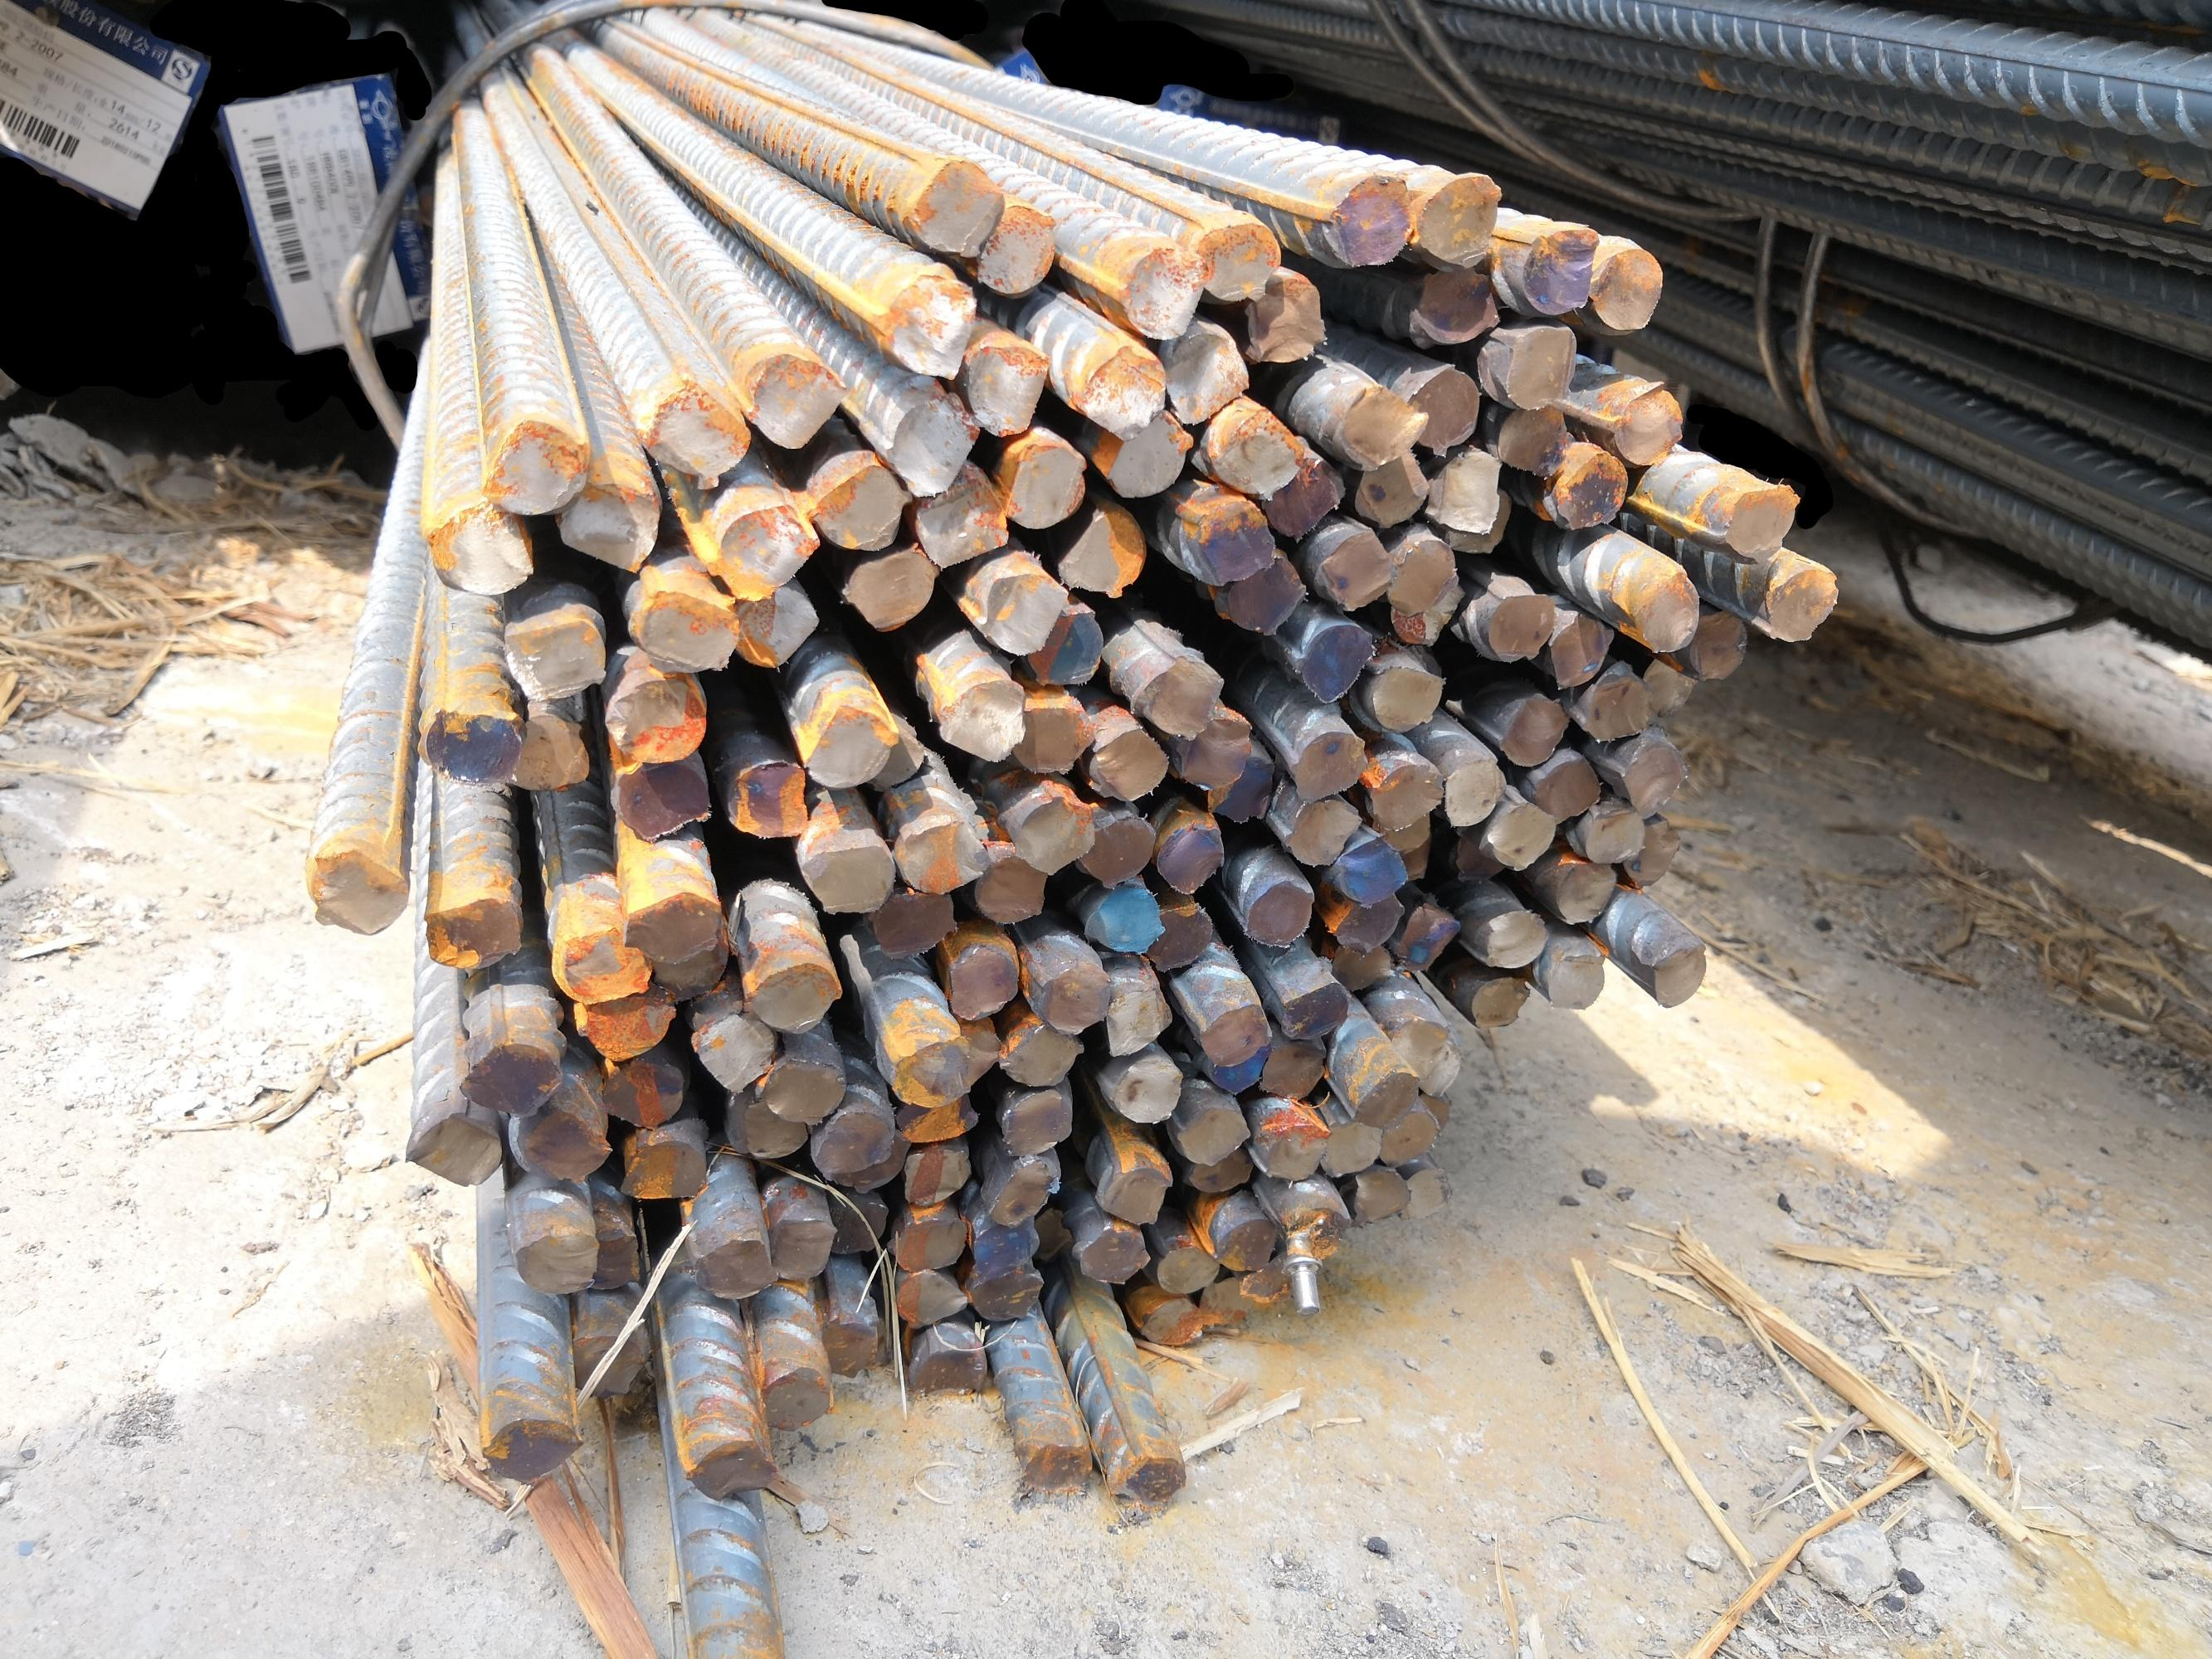bar: (629, 376, 751, 491), (472, 415, 593, 521), (699, 502, 821, 605), (873, 389, 983, 497), (910, 457, 1013, 570), (899, 152, 1006, 260), (736, 350, 847, 453), (424, 497, 537, 598), (873, 275, 980, 380), (607, 748, 718, 845), (553, 477, 661, 575), (601, 666, 709, 763), (633, 584, 744, 676), (1316, 171, 1417, 270), (1124, 648, 1227, 742), (795, 697, 899, 789), (1328, 378, 1433, 471), (303, 847, 410, 938), (1112, 244, 1208, 343), (1208, 406, 1309, 500), (500, 615, 607, 704), (835, 544, 943, 631), (959, 340, 1055, 437), (994, 437, 1089, 535), (807, 462, 913, 549), (964, 204, 1062, 298), (1157, 329, 1252, 427), (453, 1039, 565, 1121), (504, 1101, 615, 1183), (964, 572, 1070, 657), (417, 699, 525, 782), (1077, 345, 1171, 441), (933, 674, 1030, 767), (1096, 410, 1196, 500), (1053, 509, 1152, 598), (1415, 166, 1503, 267), (1518, 214, 1602, 319), (723, 587, 824, 673), (741, 957, 845, 1039), (1421, 443, 1508, 540), (551, 924, 655, 1004), (725, 749, 814, 843), (1400, 361, 1485, 458), (570, 988, 680, 1063), (418, 894, 523, 972), (1236, 279, 1330, 366), (1072, 871, 1168, 957), (1408, 260, 1504, 345), (476, 1410, 582, 1486), (894, 816, 994, 897), (798, 840, 899, 920), (619, 889, 727, 964), (1260, 451, 1346, 545), (1217, 552, 1311, 638), (404, 1108, 504, 1187), (1288, 617, 1377, 704), (1311, 521, 1396, 612), (1192, 218, 1285, 301), (1009, 793, 1098, 878), (936, 938, 1021, 1025), (1717, 483, 1804, 568), (1581, 244, 1665, 333), (1014, 606, 1105, 688), (751, 1053, 849, 1127), (1001, 702, 1098, 777), (687, 1009, 774, 1093), (1497, 324, 1581, 411), (511, 708, 593, 796), (682, 1431, 781, 1504), (865, 887, 964, 960), (1611, 732, 1691, 823), (1191, 500, 1274, 586), (1625, 566, 1703, 657), (593, 1056, 687, 1131), (692, 1232, 788, 1305), (1487, 690, 1572, 772), (1086, 725, 1173, 805), (1285, 725, 1372, 805), (1164, 714, 1253, 793), (641, 934, 737, 1006), (994, 1018, 1089, 1089), (1489, 397, 1574, 477), (1072, 812, 1159, 890), (1276, 791, 1363, 870), (1609, 382, 1687, 469), (509, 1223, 601, 1297), (1574, 666, 1656, 748), (809, 1098, 894, 1176), (1349, 450, 1438, 525), (1761, 565, 1842, 645), (1365, 657, 1449, 734), (1272, 1199, 1358, 1274), (615, 1138, 709, 1206), (1386, 896, 1462, 978), (967, 852, 1051, 927), (1365, 758, 1449, 833), (758, 1211, 844, 1284), (1388, 532, 1459, 619), (1035, 957, 1112, 1037), (1478, 586, 1555, 666), (1480, 796, 1562, 871), (1138, 899, 1217, 976), (892, 1032, 973, 1107), (1550, 450, 1625, 530), (887, 1263, 973, 1333), (1548, 606, 1618, 692), (1105, 1443, 1192, 1511), (1199, 753, 1276, 829), (758, 1363, 837, 1438), (1072, 1215, 1152, 1288), (1684, 598, 1750, 685), (1239, 875, 1316, 950), (565, 1328, 643, 1401), (1103, 1056, 1184, 1127), (1473, 901, 1553, 972), (1394, 568, 1466, 648), (1170, 1101, 1253, 1169), (983, 1154, 1062, 1225), (1095, 1157, 1173, 1229), (1330, 833, 1410, 903), (1525, 753, 1605, 823), (887, 1208, 973, 1272), (1103, 985, 1177, 1060), (1196, 1000, 1276, 1068), (1002, 1084, 1074, 1159), (1156, 819, 1227, 894), (1550, 854, 1621, 927), (1330, 889, 1408, 955), (833, 1133, 913, 1197), (964, 1262, 1046, 1324), (737, 1093, 812, 1161), (1016, 1432, 1093, 1499), (1438, 751, 1503, 829), (866, 713, 927, 795), (1257, 1032, 1328, 1101), (1445, 486, 1517, 556), (898, 1089, 985, 1145), (1346, 1070, 1424, 1131), (1276, 978, 1354, 1039), (1257, 1119, 1328, 1185), (1645, 938, 1712, 1009), (1386, 1006, 1450, 1079), (910, 1340, 988, 1399), (971, 1209, 1049, 1269), (1541, 943, 1607, 1012), (816, 1312, 880, 1384), (1623, 814, 1684, 889), (903, 1141, 971, 1208), (1346, 1161, 1412, 1229), (1633, 653, 1700, 721), (1578, 802, 1647, 866), (1314, 1112, 1386, 1175), (1374, 1110, 1445, 1171), (586, 1220, 643, 1295), (1201, 1040, 1279, 1094), (1447, 821, 1510, 887), (953, 1016, 1004, 1098), (1138, 1291, 1208, 1351), (1210, 1215, 1279, 1274), (1152, 1239, 1224, 1297), (1192, 1272, 1262, 1330), (1325, 936, 1396, 992), (1391, 1164, 1455, 1225), (821, 1201, 891, 1255), (1469, 971, 1532, 1028), (1185, 1145, 1259, 1194), (1025, 1201, 1075, 1269), (1239, 1251, 1297, 1307), (1419, 1037, 1464, 1107), (1372, 807, 1438, 854), (1398, 836, 1443, 884)
